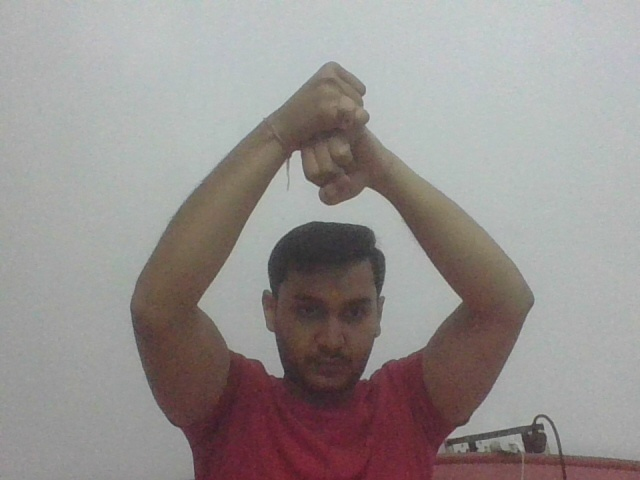S: (295, 59, 385, 206)
